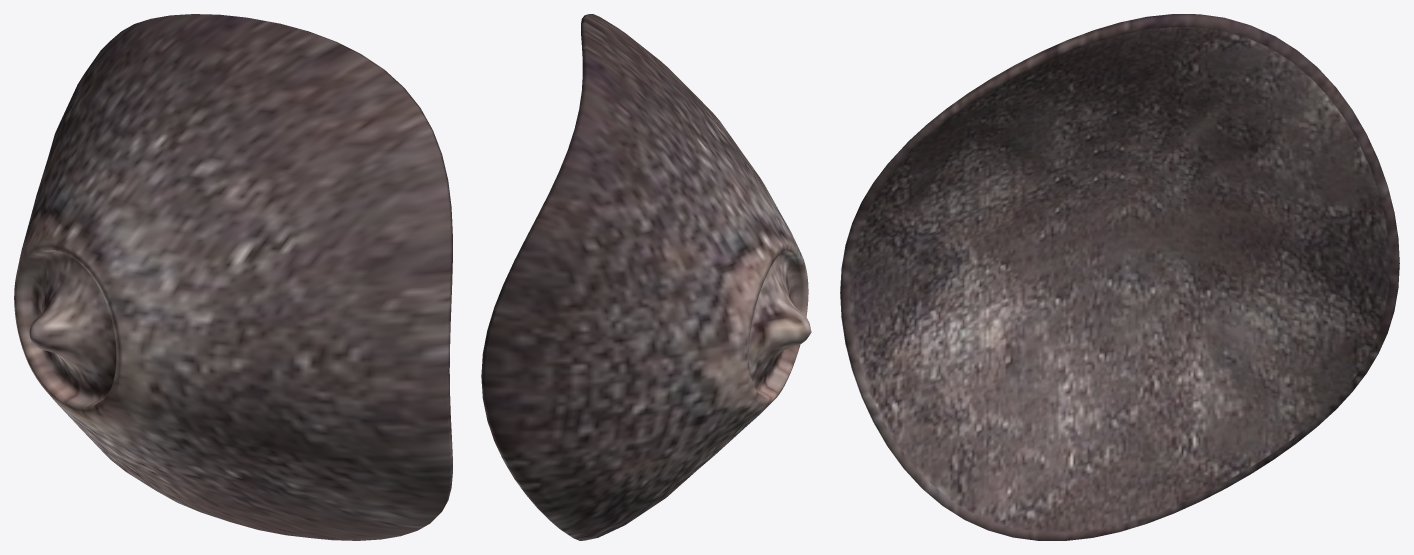
The model's file is LimeFruitPeduncle.obj.
The picture shows the model from 3 angles, left to right: view 1: azimuth 30°, elevation 25°; view 2: azimuth 150°, elevation 25°; view 3: azimuth 270°, elevation 25°; orthographic projection. The views are drawn at different scales.
Parts seen in each view (by area): view 1: LimeFruitPeduncle; view 2: LimeFruitPeduncle; view 3: LimeFruitPeduncle.
Part boxes in pixels (<box>): LimeFruitPeduncle: <box>14,14,452,540</box>; LimeFruitPeduncle: <box>481,14,811,540</box>; LimeFruitPeduncle: <box>840,14,1399,540</box>.
Bounding box in the file's own units: 0.00373 × 0.00577 × 0.00577.
Materials: 1 (1 with a texture image).
